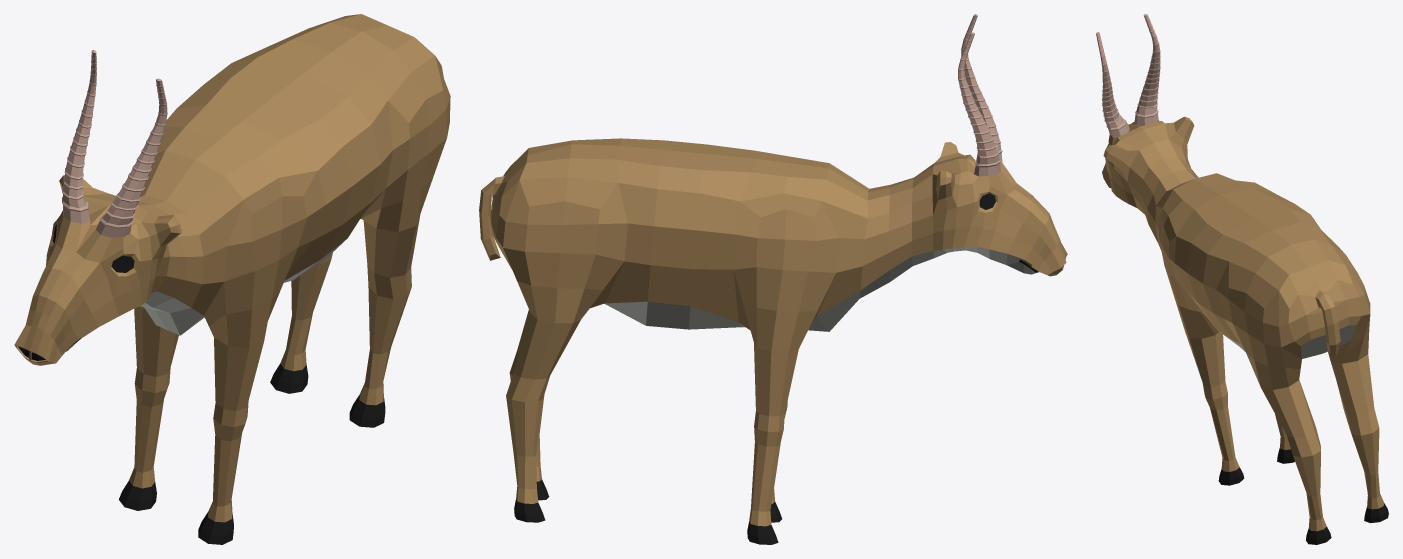
File: saiga.glb
The picture shows the model from 3 angles, left to right: view 1: azimuth 30°, elevation 25°; view 2: azimuth 150°, elevation 25°; view 3: azimuth 270°, elevation 25°; orthographic projection. The views are drawn at different scales.
Parts seen in each view (by area): view 1: Saiga; view 2: Saiga; view 3: Saiga.
Part boxes in pixels (box(x1,y1,x2,y2)): Saiga: box(14, 14, 450, 544); Saiga: box(479, 14, 1067, 544); Saiga: box(1096, 14, 1388, 544).
Bounding box in the file's own units: 109 × 110 × 72.
